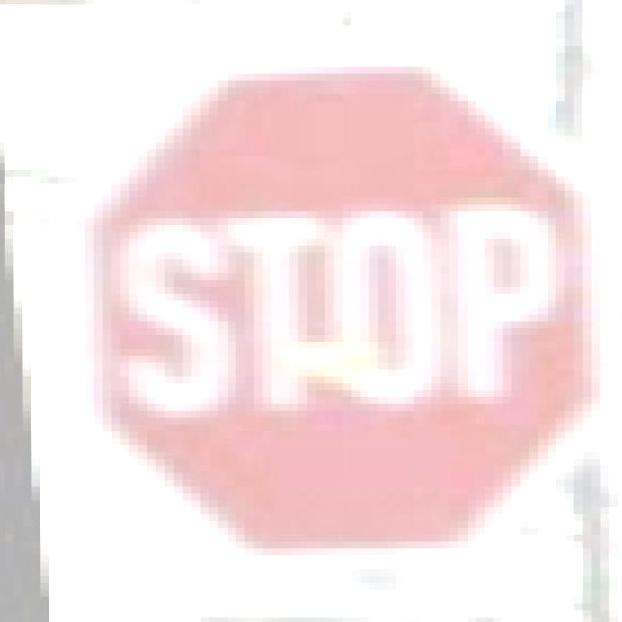stop_sign: (41, 35, 610, 572)
